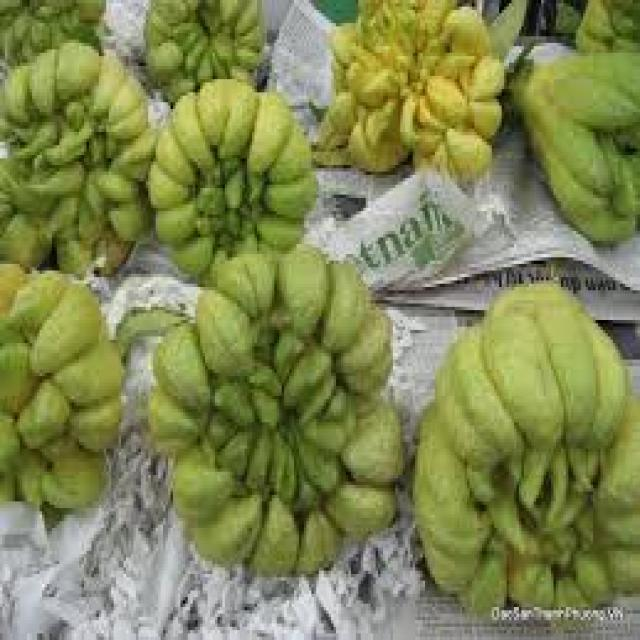PhatThu: (146, 250, 404, 574), (412, 277, 638, 611), (0, 47, 151, 280), (156, 82, 316, 286), (319, 7, 501, 180), (0, 266, 121, 514), (513, 48, 640, 239), (141, 3, 269, 98)
